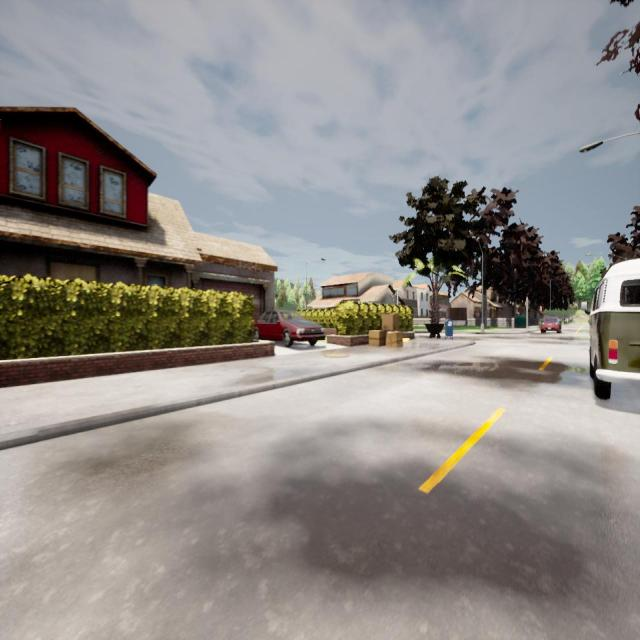Vehicle: (581, 258, 640, 399), (253, 310, 326, 348), (539, 314, 562, 334)
